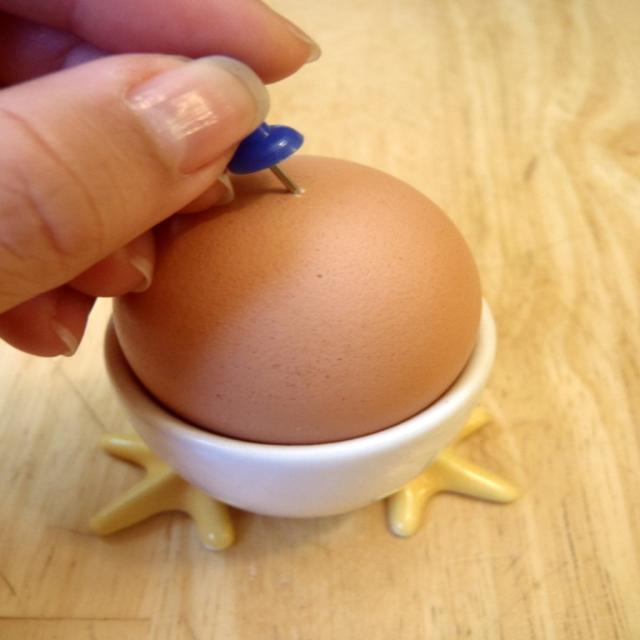Egg: (109, 154, 485, 442)
